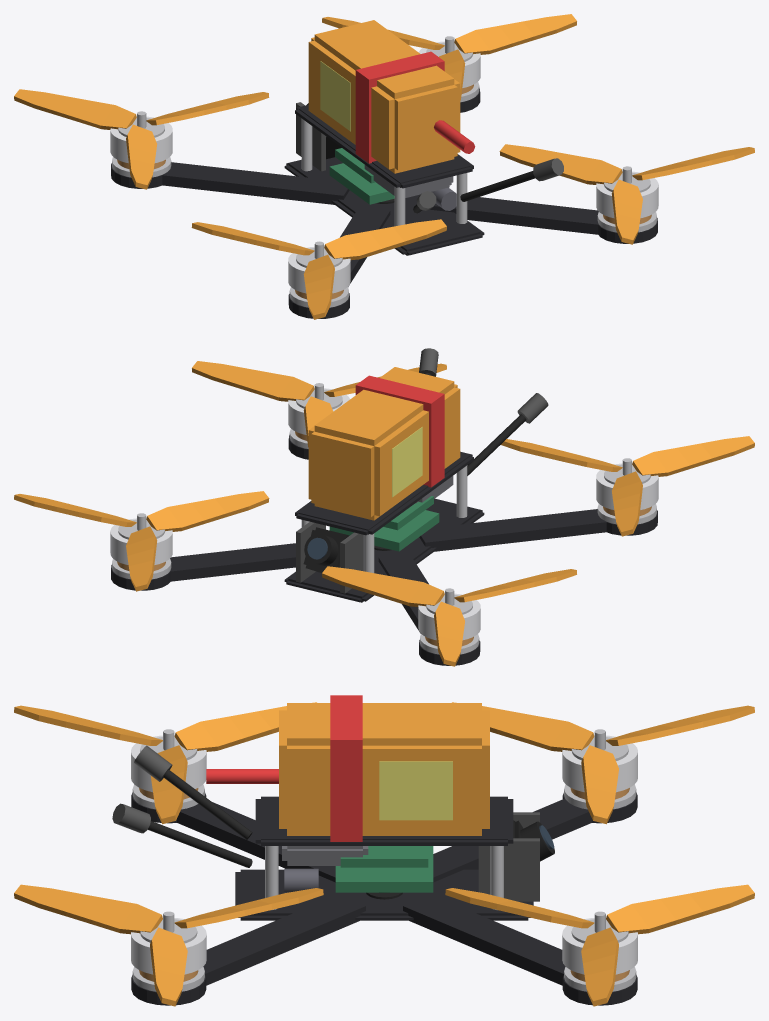
The model's file is hybrid5.glb.
3 renders of one model, top to bottom at view 1: azimuth 30°, elevation 25°; view 2: azimuth 150°, elevation 25°; view 3: azimuth 270°, elevation 25°, orthographic. The views are drawn at different scales.
Parts seen in each view (by area): view 1: body, prop_FL, prop_RL, prop_RR, prop_FR, cam_mount; view 2: body, prop_FL, prop_FR, prop_RL, prop_RR, cam_mount, fpv_cam; view 3: body, prop_FR, prop_RR, prop_FL, prop_RL, cam_mount, fpv_cam.
Part boxes in pixels (x1,y1,x2,y2): body: [110, 20, 658, 318]; prop_FL: [14, 89, 394, 203]; prop_RL: [191, 219, 446, 319]; prop_RR: [499, 144, 754, 244]; prop_FR: [322, 14, 576, 100]; cam_mount: [296, 102, 325, 171]; body: [110, 348, 658, 665]; prop_FL: [322, 545, 576, 666]; prop_FR: [14, 491, 269, 591]; prop_RL: [501, 436, 754, 536]; prop_RR: [192, 361, 446, 447]; cam_mount: [296, 521, 363, 593]; fpv_cam: [303, 527, 349, 572]; body: [112, 695, 637, 1005]; prop_FR: [445, 884, 754, 1006]; prop_RR: [14, 884, 323, 1006]; prop_FL: [366, 702, 754, 899]; prop_RL: [14, 702, 316, 824]; cam_mount: [478, 812, 539, 901]; fpv_cam: [513, 820, 554, 861].
Size of the model in its own units: 0.2594 by 0.078 by 0.2748.
